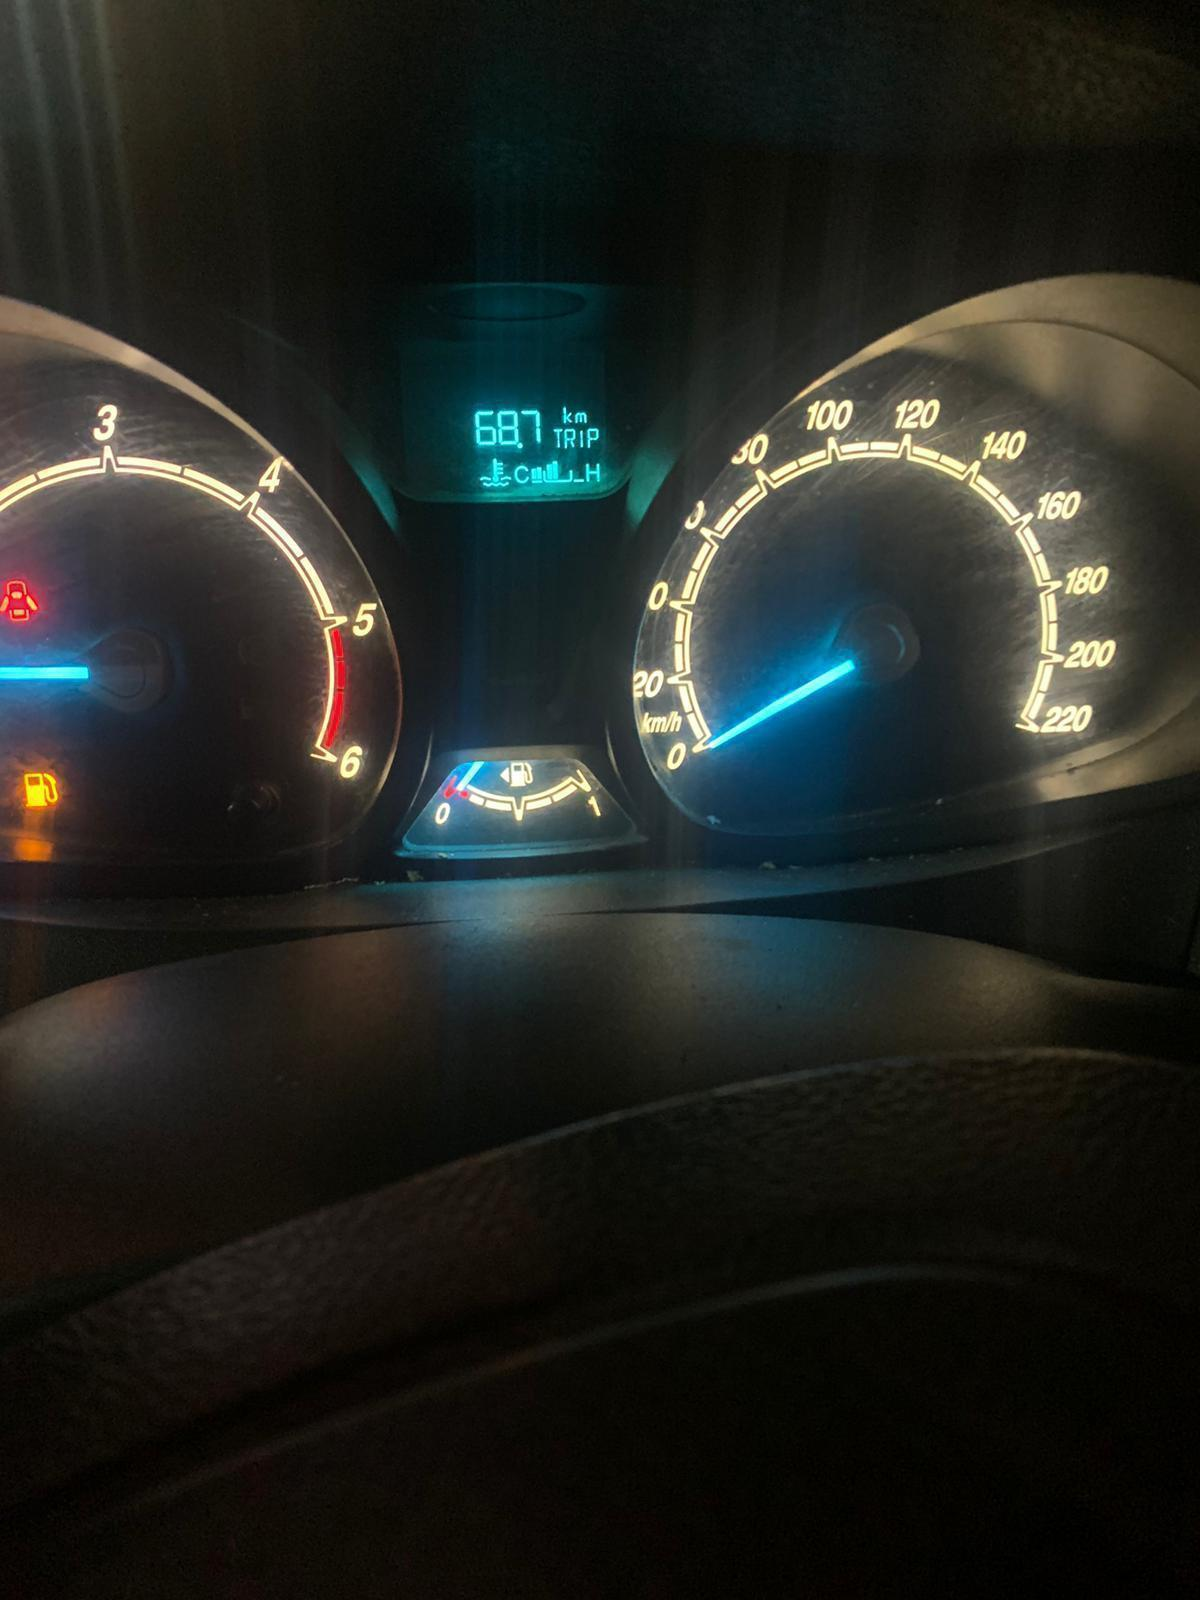,: (516, 441, 523, 449)
6: (471, 406, 497, 447)
7: (519, 409, 545, 445)
8: (497, 407, 518, 446)
X: (584, 460, 603, 483), (511, 465, 529, 484), (585, 427, 600, 447), (563, 427, 577, 449), (558, 404, 572, 425), (552, 426, 563, 449), (574, 409, 587, 425), (579, 426, 585, 449)
odometer: (379, 367, 637, 506)
